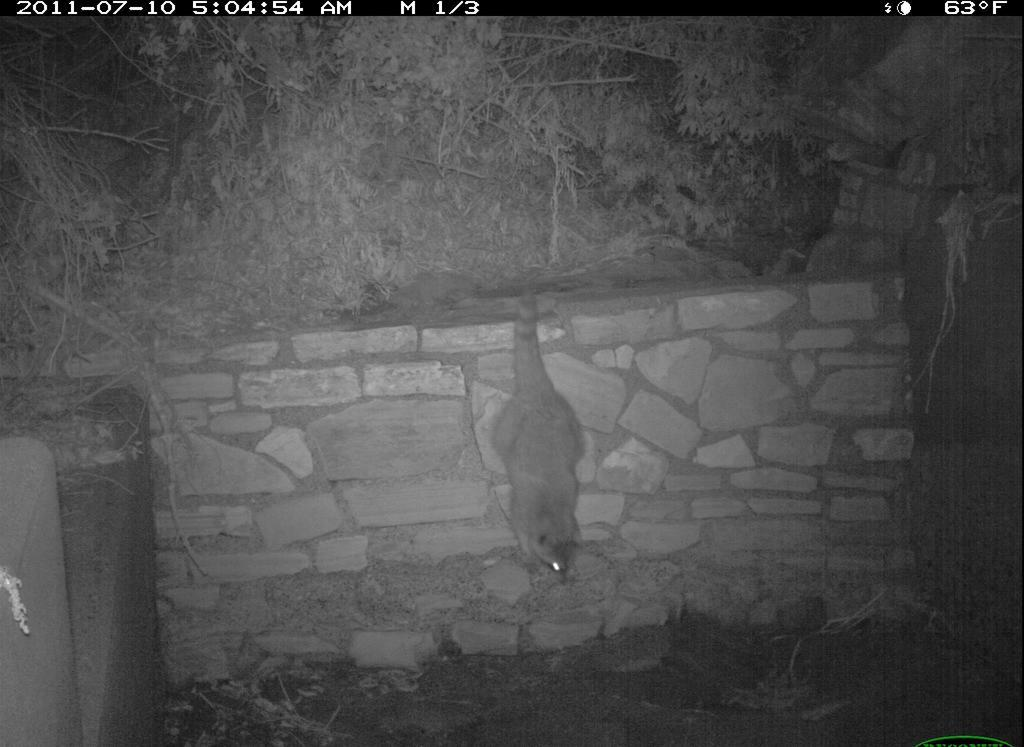raccoon: (488, 286, 606, 594)
